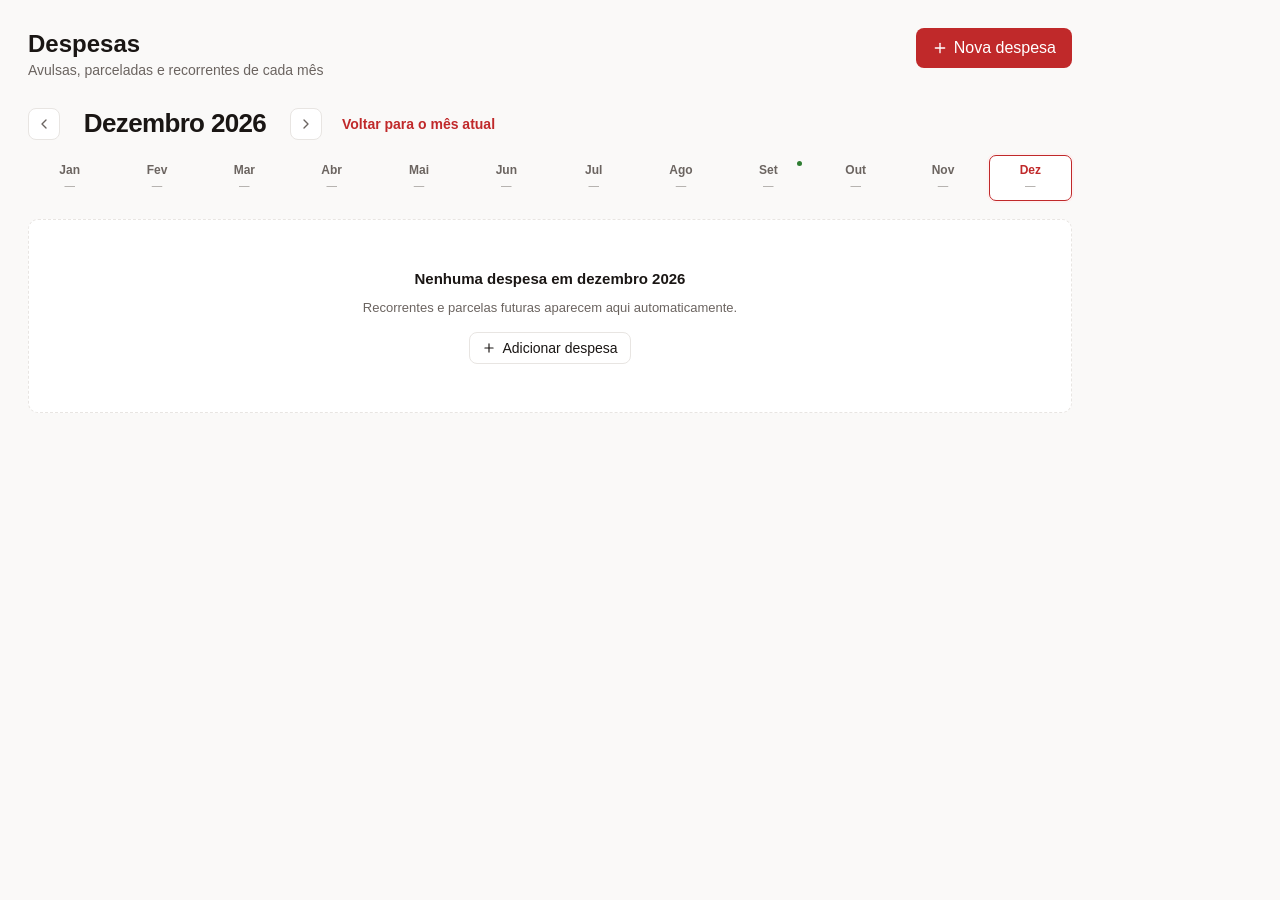
Test case: página de despesas: estado vazio e erro › em mês futuro vazio oferece adicionar, que abre o assistente
This screenshot has width=1280, height=900.
Check: the text "Recorrentes e parcelas futuras aparecem aqui automaticamente." is shown, box [363,298,737,318]
Click the button "Adicionar despesa" at [550, 348], box [469,332,631,364]
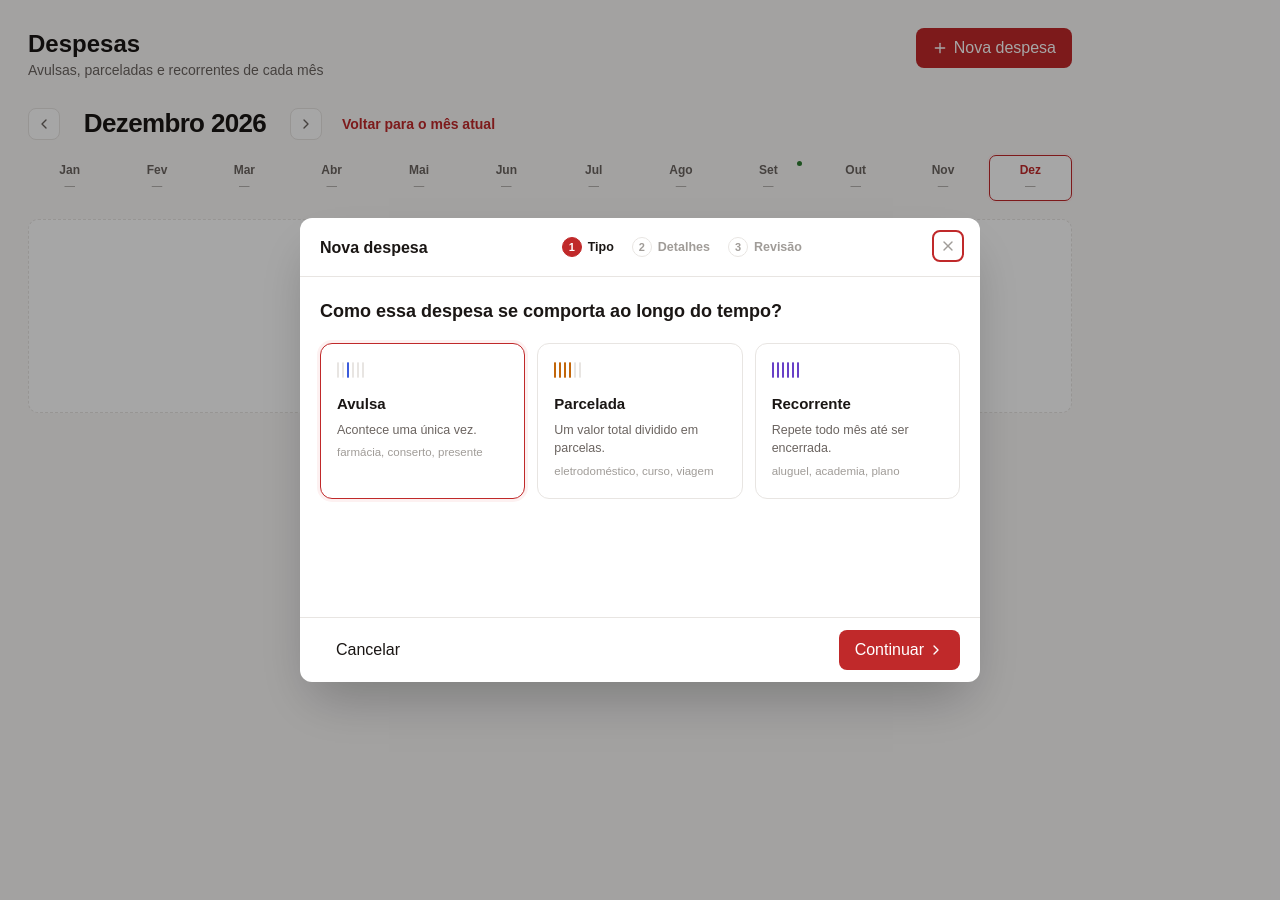
Check: the dialog "Nova despesa" is shown, box [300,218,980,682]
